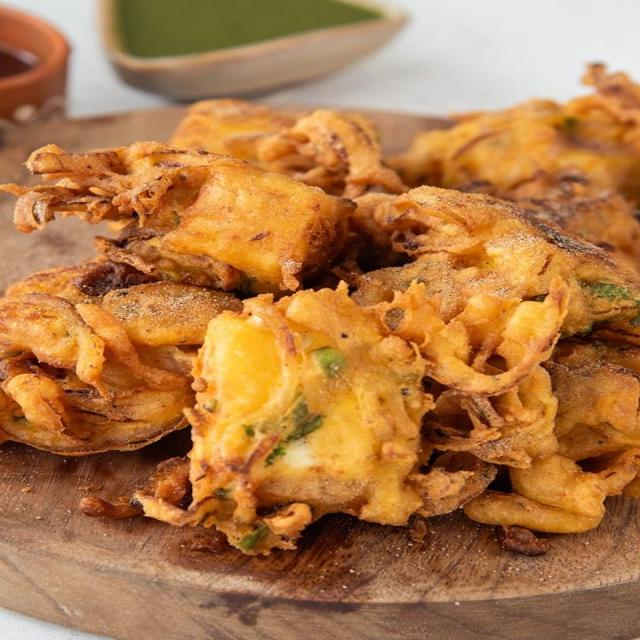BAJI: (0, 77, 639, 553)
